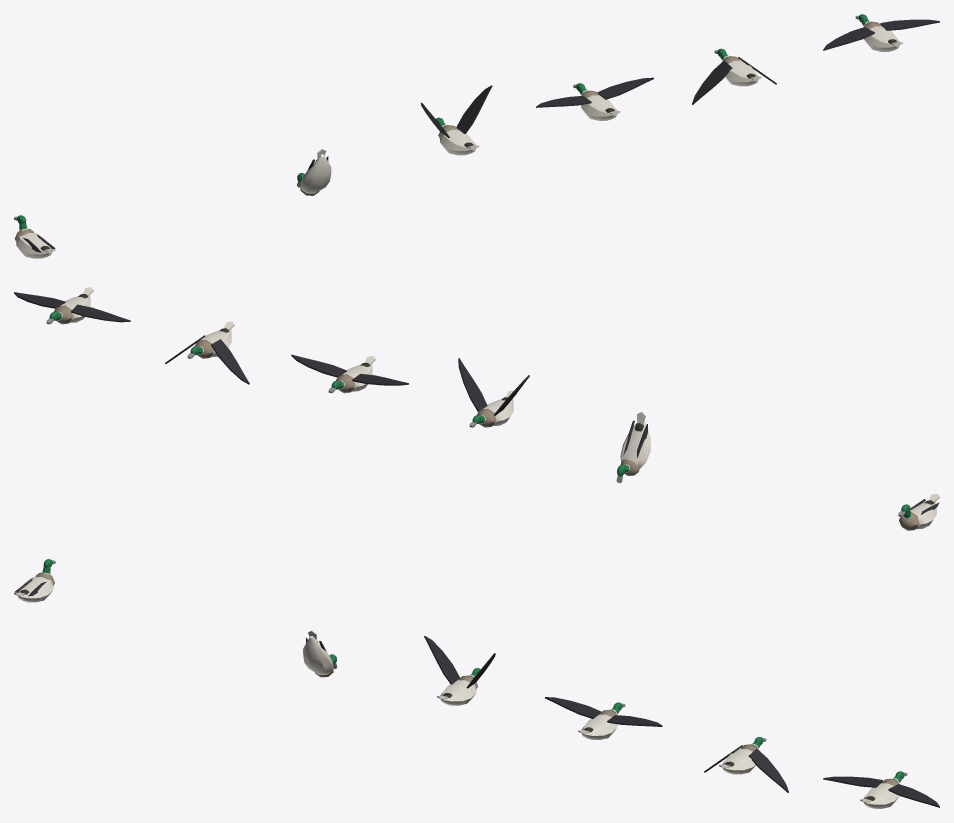
Rendered from duck.glb.
3 renders of one model, top to bottom at view 1: azimuth 30°, elevation 25°; view 2: azimuth 150°, elevation 25°; view 3: azimuth 330°, elevation 25°, orthographic.
Parts seen in each view (by area): view 1: mid, glide, up, down, dabble, swim; view 2: mid, glide, up, down, dabble, swim; view 3: mid, glide, up, down, dabble, swim.
Part boxes in pixels (x1,y1,x2,y2): mid: [536, 77, 653, 120]; glide: [823, 14, 939, 51]; up: [420, 85, 492, 155]; down: [692, 48, 776, 104]; dabble: [297, 149, 331, 195]; swim: [14, 215, 55, 258]; mid: [291, 354, 408, 393]; glide: [14, 287, 130, 324]; up: [458, 358, 529, 427]; down: [165, 321, 249, 384]; dabble: [616, 412, 650, 483]; swim: [898, 493, 939, 530]; mid: [545, 697, 662, 739]; glide: [823, 771, 939, 808]; up: [424, 636, 495, 705]; down: [704, 737, 788, 792]; dabble: [303, 630, 337, 677]; swim: [14, 559, 55, 602].
Size of what is drawn, in the model's own units: 7.81 by 0.5978 by 0.6393.
